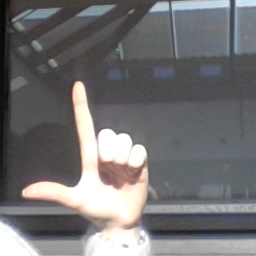L: (21, 79, 153, 222)
